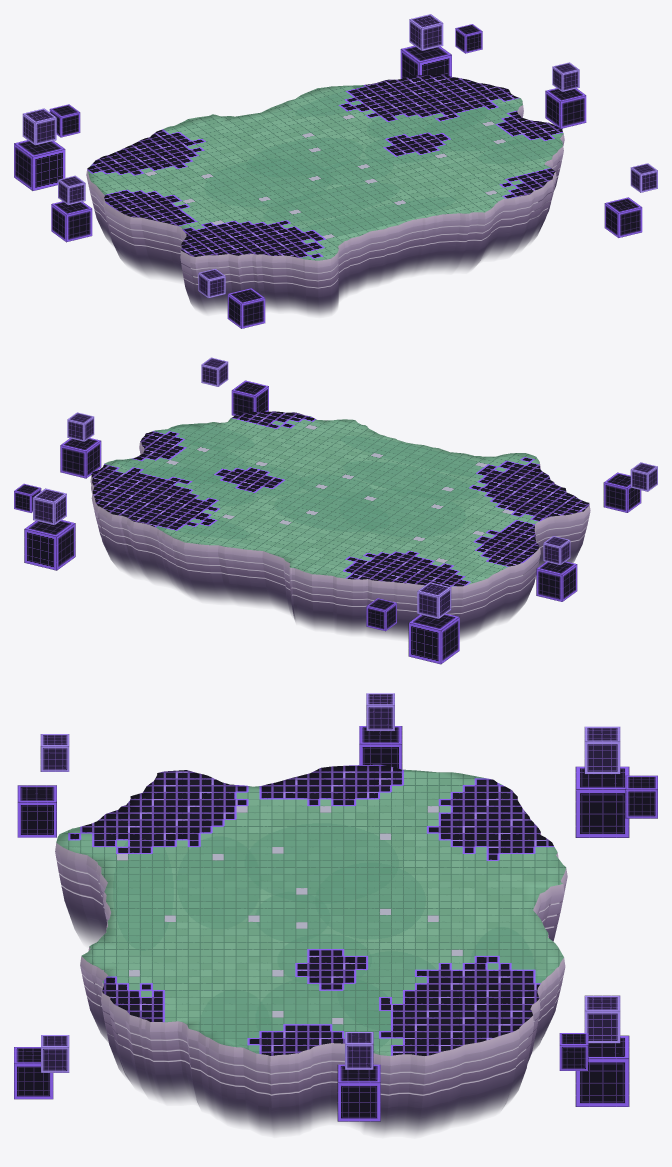
File: digi_farm_3d.glb
The picture shows the model from 3 angles, top to bottom: view 1: azimuth 30°, elevation 25°; view 2: azimuth 150°, elevation 25°; view 3: azimuth 270°, elevation 25°; orthographic projection. The views are drawn at different scales.
Parts seen in each view (by area): view 1: Island, VoxelFragmentsNear01, VoxelFragmentsNear02, VoxelFragmentsNear03, VoxelFragmentsNear04, VoxelFragmentsNear05, VoxelFragmentsNear06; view 2: Island, VoxelFragmentsNear01, VoxelFragmentsNear02, VoxelFragmentsNear03, VoxelFragmentsNear04, VoxelFragmentsNear05, VoxelFragmentsNear06; view 3: Island, VoxelFragmentsNear01, VoxelFragmentsNear02, VoxelFragmentsNear04, VoxelFragmentsNear05, VoxelFragmentsNear06, VoxelFragmentsNear03.
Boxes of the visible parts, x1,y1,x2,y2 form: Island: [86, 74, 564, 314]; VoxelFragmentsNear01: [14, 104, 80, 190]; VoxelFragmentsNear02: [400, 14, 482, 78]; VoxelFragmentsNear03: [51, 175, 92, 242]; VoxelFragmentsNear04: [545, 62, 586, 128]; VoxelFragmentsNear05: [198, 268, 265, 328]; VoxelFragmentsNear06: [604, 163, 657, 237]; Island: [90, 411, 590, 639]; VoxelFragmentsNear01: [366, 582, 459, 664]; VoxelFragmentsNear02: [14, 483, 75, 570]; VoxelFragmentsNear03: [536, 536, 577, 601]; VoxelFragmentsNear04: [60, 412, 101, 478]; VoxelFragmentsNear05: [603, 462, 657, 512]; VoxelFragmentsNear06: [201, 357, 268, 415]; Island: [55, 764, 567, 1134]; VoxelFragmentsNear01: [575, 726, 657, 837]; VoxelFragmentsNear02: [559, 995, 629, 1106]; VoxelFragmentsNear04: [337, 1032, 380, 1121]; VoxelFragmentsNear05: [17, 734, 69, 837]; VoxelFragmentsNear06: [14, 1035, 69, 1099]; VoxelFragmentsNear03: [359, 693, 402, 769].
Bounding box in the file's own units: 2.36 × 0.49 × 1.8.
4 materials, 4 textured.
